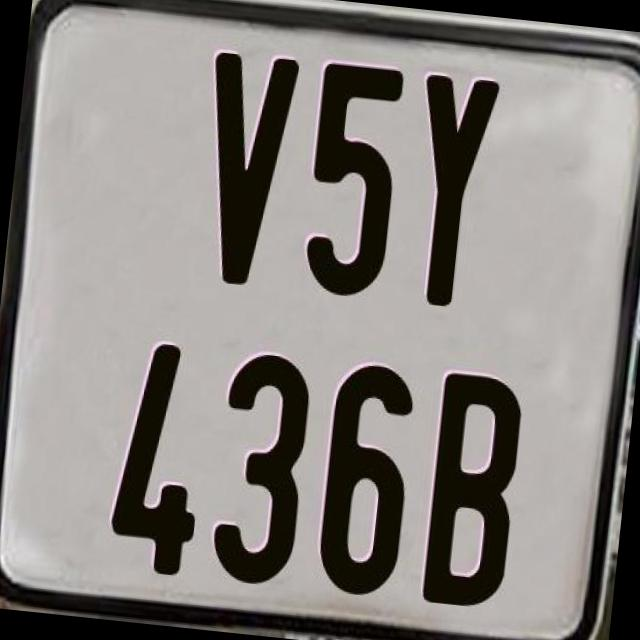3: (208, 350, 314, 594)
4: (103, 335, 214, 572)
5: (297, 62, 403, 306)
6: (312, 356, 418, 596)
B: (418, 372, 527, 612)
V: (187, 50, 300, 298)
Y: (402, 70, 506, 312)
